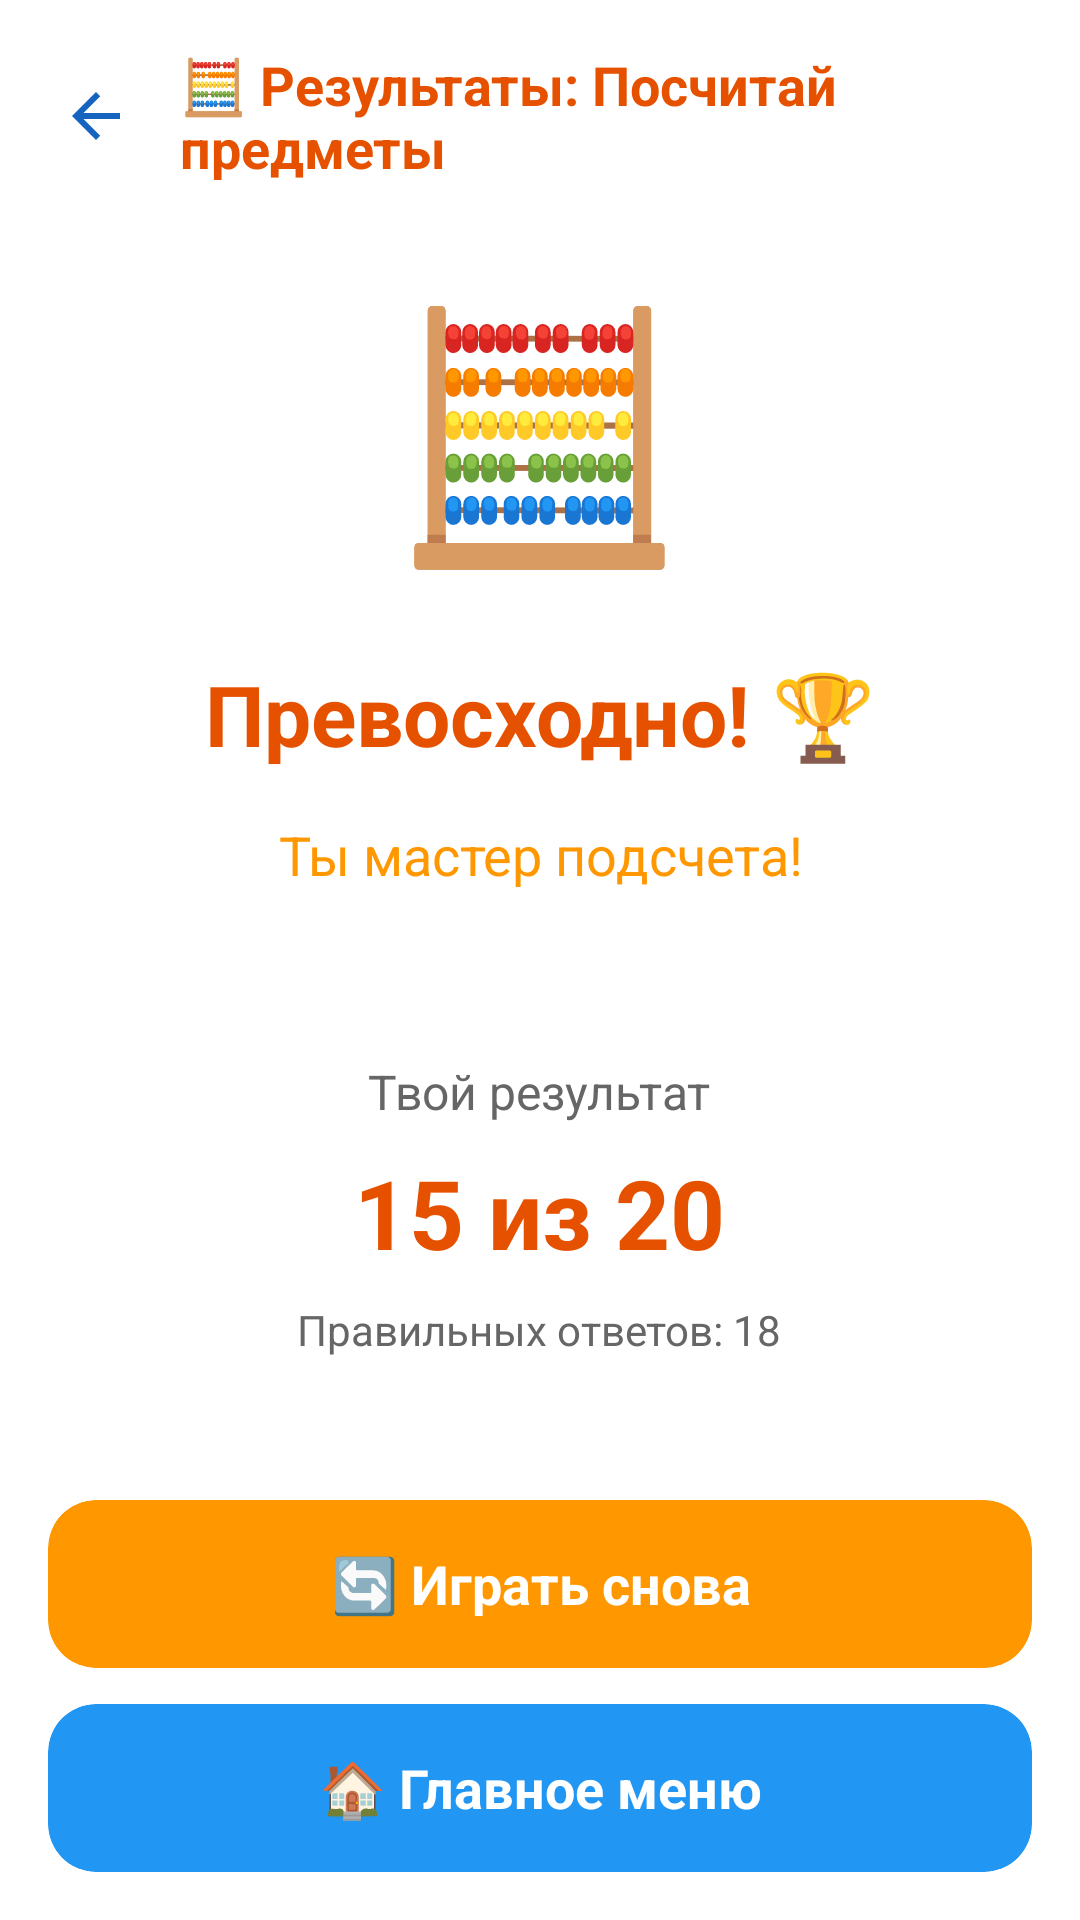

Point at icon controls on the screen. Image size 1080px×1920px, points as (x=x, y=y).
Назад: (x=96, y=116)
